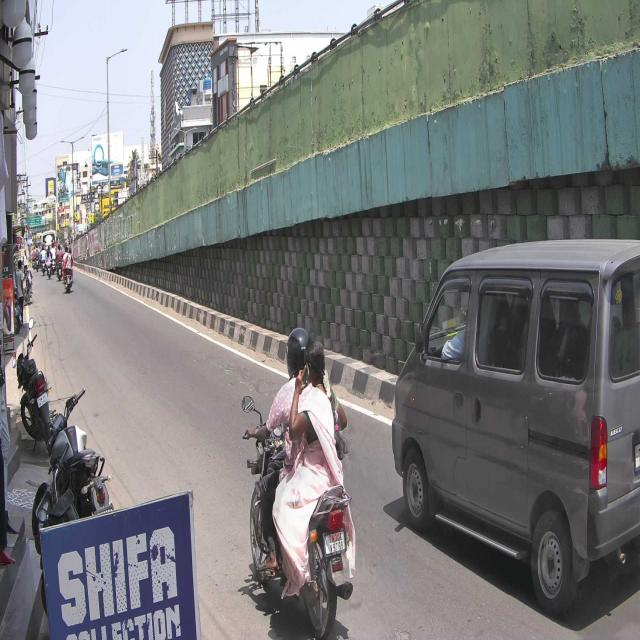double_rider: (243, 328, 359, 640)
